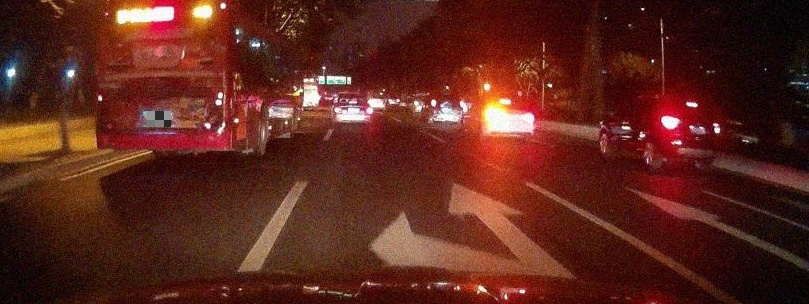L_light: (97, 93, 113, 131), (661, 116, 678, 129), (487, 113, 501, 119), (334, 108, 346, 114), (431, 100, 437, 107)
R_light: (202, 91, 224, 133), (712, 123, 720, 134), (361, 107, 372, 114), (460, 101, 467, 109)
T_light: (144, 26, 174, 34), (686, 102, 698, 107), (500, 99, 511, 104), (349, 101, 357, 104), (445, 95, 452, 97)
day-no: (521, 115, 533, 120)
night-brake: (659, 98, 721, 175), (333, 92, 373, 126)
night-left: (481, 93, 535, 141)
night-no: (95, 0, 227, 156), (430, 92, 467, 124)
plate_1: (146, 111, 171, 127)
